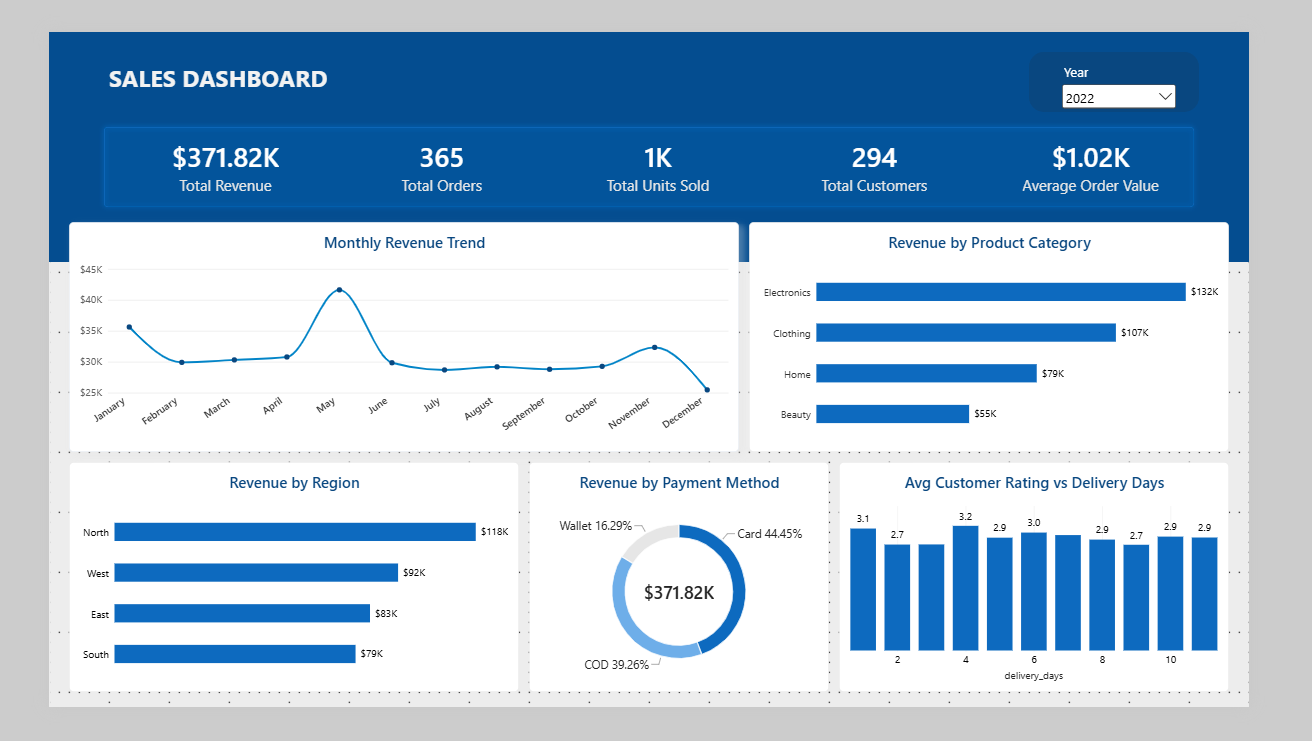

The dashboard page shown, as its layout file describes it:
{"tool":"powerbi","page":{"name":"Page 1","canvas":[1920,1080],"ordinal":0},"visuals":[{"type":"shape","box":[0,0,1920,368],"z":0},{"type":"textbox","box":[96,48,352,64],"z":1000},{"type":"shape","box":[80,144,1760,144],"z":2000},{"type":"cardVisual","fields":{"Data":["_Measures.Total Revenue","_Measures.Total Orders","_Measures.Total Units Sold","_Measures.Total Customers","_Measures.Average Order Value"]},"box":[112,160,1728,112],"z":3000},{"type":"lineChart","title":"Monthly Revenue Trend","fields":{"Category":["ecommerce_sales.order_date.Variation.Date Hierarchy.Month","ecommerce_sales.order_date.Variation.Date Hierarchy.Day"],"Y":["_Measures.Total Revenue"]},"box":[32,304,1072,368],"z":4000},{"type":"shape","box":[1568,32,272,96],"z":5000},{"type":"slicer","fields":{"Values":["ecommerce_sales.order_date.Variation.Date Hierarchy.Year"]},"box":[1616,48,192,80],"z":6000},{"type":"clusteredBarChart","title":"Revenue by Product Category","fields":{"Category":["ecommerce_sales.product_category"],"Y":["_Measures.Total Revenue"]},"box":[1120,304,768,368],"z":7000},{"type":"donutChart","title":"Revenue by Payment Method","fields":{"Category":["ecommerce_sales.payment_method"],"Y":["_Measures.Total Revenue"]},"box":[768,688,480,368],"z":8000},{"type":"clusteredBarChart","title":" Revenue by Region","fields":{"Category":["ecommerce_sales.region"],"Y":["_Measures.Total Revenue"]},"box":[32,688,720,368],"z":9000},{"type":"clusteredColumnChart","title":"Avg Customer Rating vs Delivery Days","fields":{"Category":["ecommerce_sales.delivery_days"],"Y":["_Measures.Avg Customer Rating"]},"box":[1264,688,624,368],"z":9001}]}

Visuals, with their boxes in screenshot pixels (x1, y1, x2, y2), scaled from the page's 1920x1080 canvas onto the 1312x741 screenshot:
shape: {"x1": 0, "y1": 0, "x2": 1311, "y2": 252}
textbox: {"x1": 66, "y1": 33, "x2": 306, "y2": 77}
shape: {"x1": 55, "y1": 99, "x2": 1257, "y2": 198}
cardVisual - _Measures.Total Revenue x _Measures.Total Orders: {"x1": 77, "y1": 110, "x2": 1257, "y2": 187}
"Monthly Revenue Trend" lineChart: {"x1": 22, "y1": 209, "x2": 754, "y2": 461}
shape: {"x1": 1071, "y1": 22, "x2": 1257, "y2": 88}
slicer - ecommerce_sales.order_date.Variation.Date Hierarchy.Year: {"x1": 1104, "y1": 33, "x2": 1235, "y2": 88}
"Revenue by Product Category" clusteredBarChart: {"x1": 765, "y1": 209, "x2": 1290, "y2": 461}
"Revenue by Payment Method" donutChart: {"x1": 525, "y1": 472, "x2": 853, "y2": 725}
" Revenue by Region" clusteredBarChart: {"x1": 22, "y1": 472, "x2": 514, "y2": 725}
"Avg Customer Rating vs Delivery Days" clusteredColumnChart: {"x1": 864, "y1": 472, "x2": 1290, "y2": 725}
